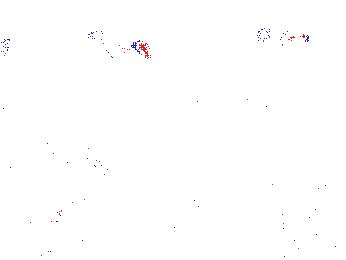X-ray fish: (87, 234, 133, 258)
glassfish: (36, 132, 138, 197)
red belly glassfish: (268, 29, 310, 45)
redtail glassfish: (84, 27, 153, 61), (1, 28, 23, 55)
